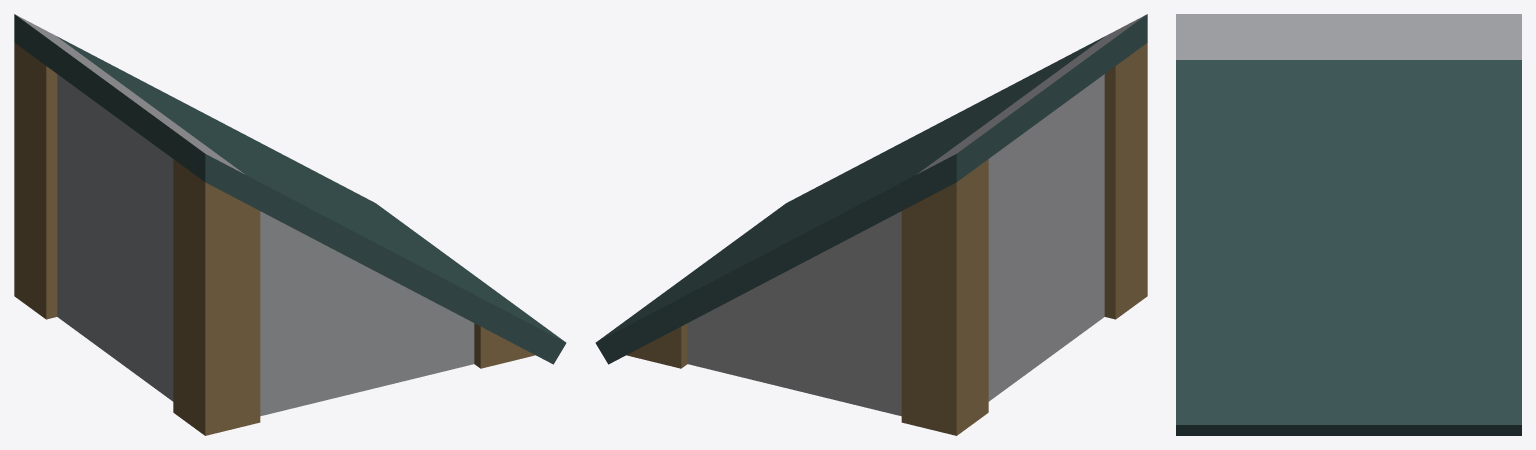
Rendered from Roof_Slant_Green_01.obj.
3 views of the same model, side by side, from view 1: azimuth 30°, elevation 25°; view 2: azimuth 150°, elevation 25°; view 3: azimuth 270°, elevation 25° (orthographic). The views are drawn at different scales.
Parts seen in each view (by area): view 1: Mesh1_Roof_Slant_Green_Model; view 2: Mesh1_Roof_Slant_Green_Model; view 3: Mesh1_Roof_Slant_Green_Model.
Boxes of the visible parts, left/top/right/bottom form: Mesh1_Roof_Slant_Green_Model: left=14, top=14, right=566, bottom=435; Mesh1_Roof_Slant_Green_Model: left=595, top=14, right=1147, bottom=435; Mesh1_Roof_Slant_Green_Model: left=1176, top=14, right=1521, bottom=435.
Bounding box in the file's own units: 3.28 × 2.57 × 3.
